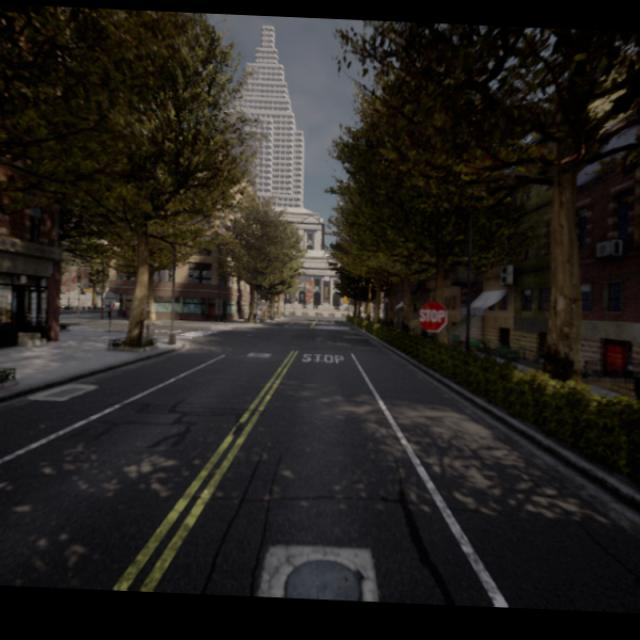stop sign: (416, 297, 449, 334)
